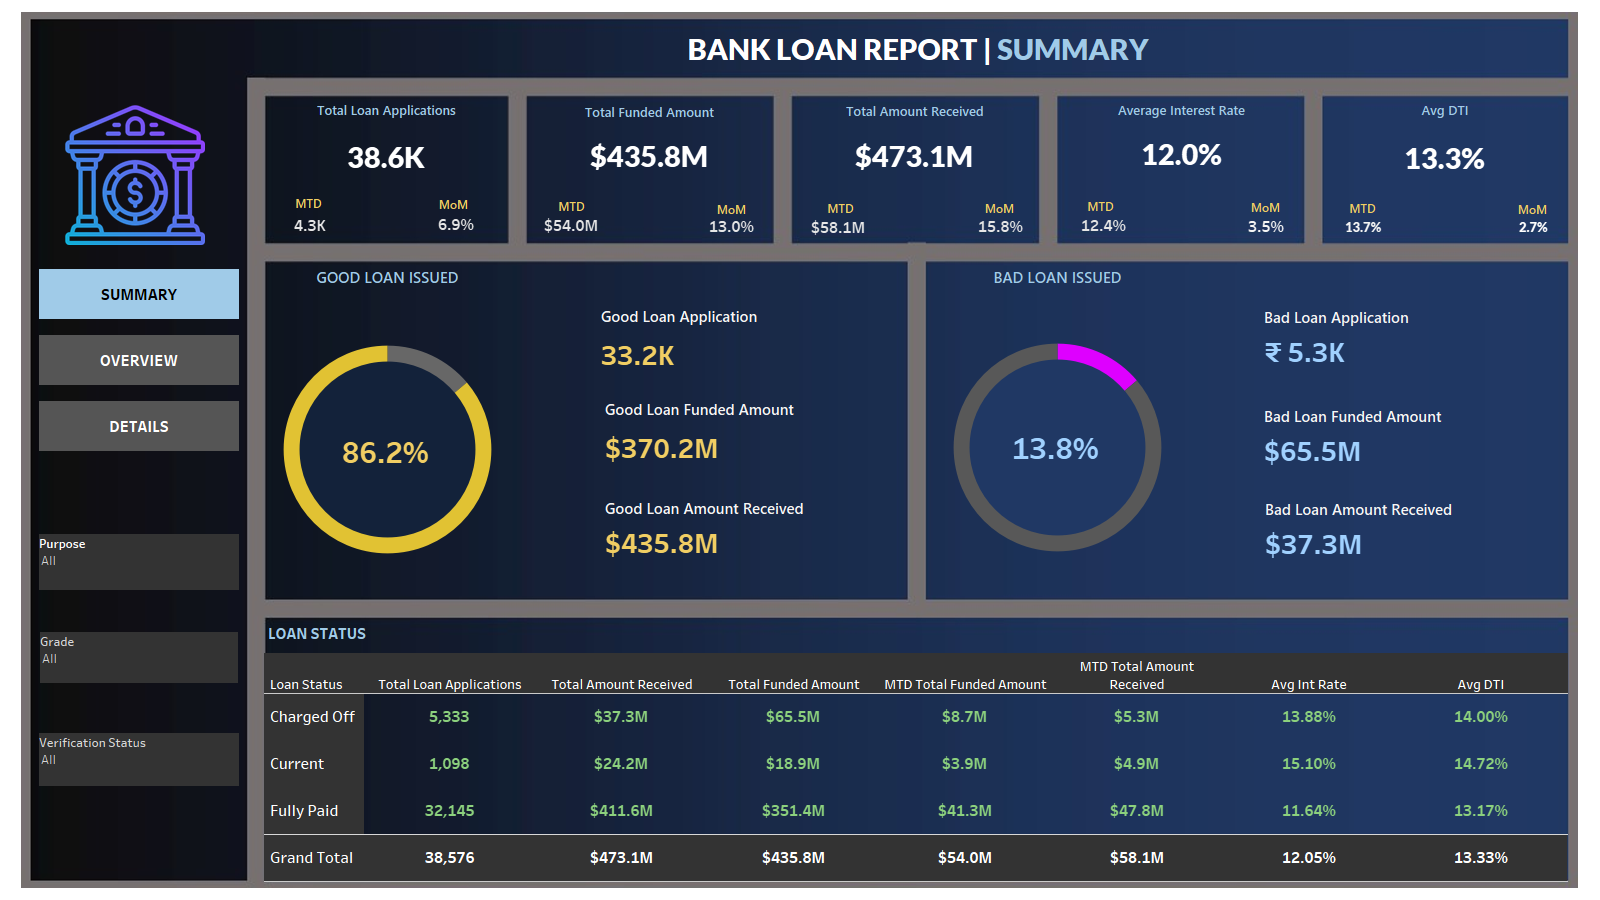

What the dashboard file says about the page in this screenshot:
{"tool":"tableau","page":{"name":"SUMMARY","canvas":[1600,900],"ordinal":2},"visuals":[{"type":"image","param":"C:/Users/Khan/Documents/Data Analytics and Science Project/Bank Loan Project/Tab","box":[8,8,1584,884]},{"type":"text","box":[685,32,469,33]},{"type":"worksheet","title":"Total Loan Applications","mark":"Automatic","box":[265,95,243,92]},{"type":"worksheet","title":"Average Interest Rate","mark":"Automatic","box":[1058,95,247,86]},{"type":"worksheet","title":"Avg DTI","mark":"Automatic","box":[1322,95,246,93]},{"type":"worksheet","title":"Total Amount Received","mark":"Automatic","box":[792,96,246,87]},{"type":"worksheet","title":"Total Funded Amount","mark":"Automatic","box":[526,97,247,86]},{"type":"image","param":"C:/Users/Khan/AppData/Local/Temp/TableauTemp/0o62nlt0sle9nz1cniugg1dumx9x/Sheets","box":[65,105,140,140]},{"type":"text","box":[288,195,41,16]},{"type":"text","box":[433,196,41,16]},{"type":"text","box":[551,198,41,16]},{"type":"text","box":[1245,199,41,16]},{"type":"text","box":[820,200,41,16]},{"type":"text","box":[979,200,41,16]},{"type":"text","box":[1080,200,41,13]},{"type":"text","box":[711,201,41,16]},{"type":"text","box":[1512,201,41,16]},{"type":"text","box":[1342,202,41,13]},{"type":"worksheet","title":"MTD Total Funded Amount","mark":"Automatic","box":[539,205,65,41]},{"type":"worksheet","title":"MoM Total Funded Amount","mark":"Automatic","box":[699,208,65,37]},{"type":"worksheet","title":"MTD Total Amount Received","mark":"Automatic","box":[804,208,70,40]},{"type":"worksheet","title":"MTD Average Interest Rate","mark":"Automatic","box":[1076,210,56,31]},{"type":"worksheet","title":"MoM Total Amount Received","mark":"Automatic","box":[970,211,62,32]},{"type":"worksheet","title":"MoM Average Interest Rate","mark":"Automatic","box":[1236,211,60,32]},{"type":"worksheet","title":"MTD Total Loan Applications","mark":"Automatic","box":[287,212,46,28]},{"type":"worksheet","title":"MoM Loan Applications","mark":"Automatic","box":[430,212,53,25]},{"type":"worksheet","title":"MTD Avg DTI","mark":"Automatic","box":[1331,214,65,28]},{"type":"worksheet","title":"MoM Avg DTI","mark":"Automatic","box":[1510,214,48,28]},{"type":"worksheet","title":"GOOD LOAN ISSUED","mark":"Pie","rows":["Calculation_590534540006326273","Calculation_590534540006326273"],"box":[265,261,245,342]},{"type":"worksheet","title":"BAD LOAN ISSUED","mark":"Pie","rows":["Calculation_590534540006326273","Calculation_590534540006326273"],"box":[926,261,263,338]},{"type":"dashboard-object","box":[39,269,200,50]},{"type":"worksheet","title":"Bad Loan Application","mark":"Automatic","box":[1256,297,300,75]},{"type":"worksheet","title":"Good Loan Application","mark":"Automatic","box":[597,300,300,75]},{"type":"dashboard-object","box":[39,335,200,50]},{"type":"worksheet","title":"Bad Loan Application%","mark":"Automatic","box":[992,389,128,117]},{"type":"worksheet","title":"Good Loan Funded Amount","mark":"Automatic","box":[601,393,300,75]},{"type":"worksheet","title":"Bad Loan Funded Amount","mark":"Automatic","box":[1256,396,300,75]},{"type":"worksheet","title":"Good Loan Application%","mark":"Automatic","box":[317,400,138,103]},{"type":"dashboard-object","box":[39,401,200,50]},{"type":"worksheet","title":"Good Loan Amount Received","mark":"Automatic","box":[597,488,300,75]},{"type":"worksheet","title":"Bad Loan Amount Received","mark":"Automatic","box":[1257,489,300,75]},{"type":"filter","title":"GOOD LOAN ISSUED","param":"[federated.1i2p9wj1vrfzpc10etiy51m21jew].[none:purpose:nk]","box":[39,534,200,56]},{"type":"worksheet","title":"LOAN STATUS","mark":"Automatic","rows":["loan_status"],"box":[264,617,1304,265]},{"type":"filter","title":"GOOD LOAN ISSUED","param":"[federated.1i2p9wj1vrfzpc10etiy51m21jew].[none:grade:nk]","box":[40,632,198,51]},{"type":"filter","title":"GOOD LOAN ISSUED","param":"[federated.1i2p9wj1vrfzpc10etiy51m21jew].[none:verification_status:nk]","box":[39,733,200,53]}]}

Visuals, with their boxes in screenshot pixels (x1, y1, x2, y2), scaled from the page's 1600x900 canvas onto the 1600x900 screenshot:
image: <region>8, 8, 1592, 892</region>
text: <region>685, 32, 1154, 65</region>
"Total Loan Applications" worksheet: <region>265, 95, 508, 187</region>
"Average Interest Rate" worksheet: <region>1058, 95, 1305, 181</region>
"Avg DTI" worksheet: <region>1322, 95, 1568, 188</region>
"Total Amount Received" worksheet: <region>792, 96, 1038, 183</region>
"Total Funded Amount" worksheet: <region>526, 97, 773, 183</region>
image: <region>65, 105, 205, 245</region>
text: <region>288, 195, 329, 211</region>
text: <region>433, 196, 474, 212</region>
text: <region>551, 198, 592, 214</region>
text: <region>1245, 199, 1286, 215</region>
text: <region>820, 200, 861, 216</region>
text: <region>979, 200, 1020, 216</region>
text: <region>1080, 200, 1121, 213</region>
text: <region>711, 201, 752, 217</region>
text: <region>1512, 201, 1553, 217</region>
text: <region>1342, 202, 1383, 215</region>
"MTD Total Funded Amount" worksheet: <region>539, 205, 604, 246</region>
"MoM Total Funded Amount" worksheet: <region>699, 208, 764, 245</region>
"MTD Total Amount Received" worksheet: <region>804, 208, 874, 248</region>
"MTD Average Interest Rate" worksheet: <region>1076, 210, 1132, 241</region>
"MoM Total Amount Received" worksheet: <region>970, 211, 1032, 243</region>
"MoM Average Interest Rate" worksheet: <region>1236, 211, 1296, 243</region>
"MTD Total Loan Applications" worksheet: <region>287, 212, 333, 240</region>
"MoM Loan Applications" worksheet: <region>430, 212, 483, 237</region>
"MTD Avg DTI" worksheet: <region>1331, 214, 1396, 242</region>
"MoM Avg DTI" worksheet: <region>1510, 214, 1558, 242</region>
"GOOD LOAN ISSUED" worksheet (Pie marks): <region>265, 261, 510, 603</region>
"BAD LOAN ISSUED" worksheet (Pie marks): <region>926, 261, 1189, 599</region>
dashboard-object: <region>39, 269, 239, 319</region>
"Bad Loan Application" worksheet: <region>1256, 297, 1556, 372</region>
"Good Loan Application" worksheet: <region>597, 300, 897, 375</region>
dashboard-object: <region>39, 335, 239, 385</region>
"Bad Loan Application%" worksheet: <region>992, 389, 1120, 506</region>
"Good Loan Funded Amount" worksheet: <region>601, 393, 901, 468</region>
"Bad Loan Funded Amount" worksheet: <region>1256, 396, 1556, 471</region>
"Good Loan Application%" worksheet: <region>317, 400, 455, 503</region>
dashboard-object: <region>39, 401, 239, 451</region>
"Good Loan Amount Received" worksheet: <region>597, 488, 897, 563</region>
"Bad Loan Amount Received" worksheet: <region>1257, 489, 1557, 564</region>
"GOOD LOAN ISSUED" filter: <region>39, 534, 239, 590</region>
"LOAN STATUS" worksheet: <region>264, 617, 1568, 882</region>
"GOOD LOAN ISSUED" filter: <region>40, 632, 238, 683</region>
"GOOD LOAN ISSUED" filter: <region>39, 733, 239, 786</region>
